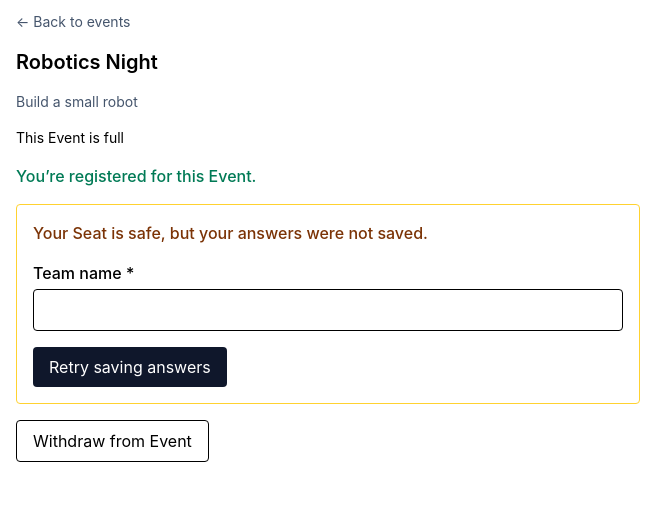
it: EventRegistrationPage › uses the custom-form Waitlist action and shows a retry transport failure
In the field labelled "Team name *": [328, 310] box [33,289,623,331], type "Robots"
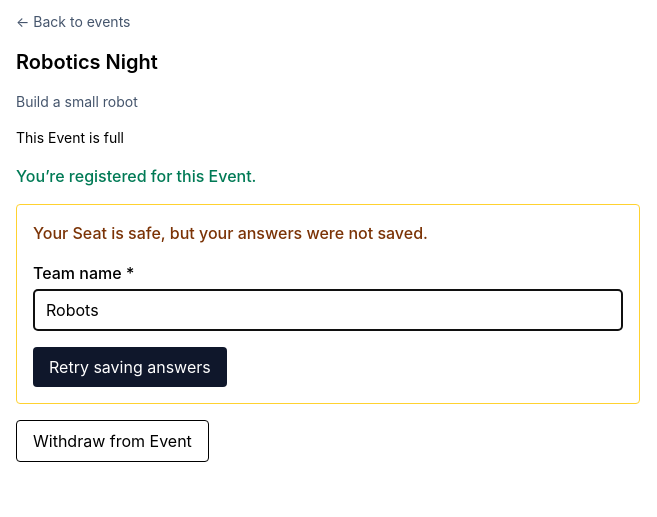
Click the button "Retry saving answers": [130, 367] box [33,347,227,387]
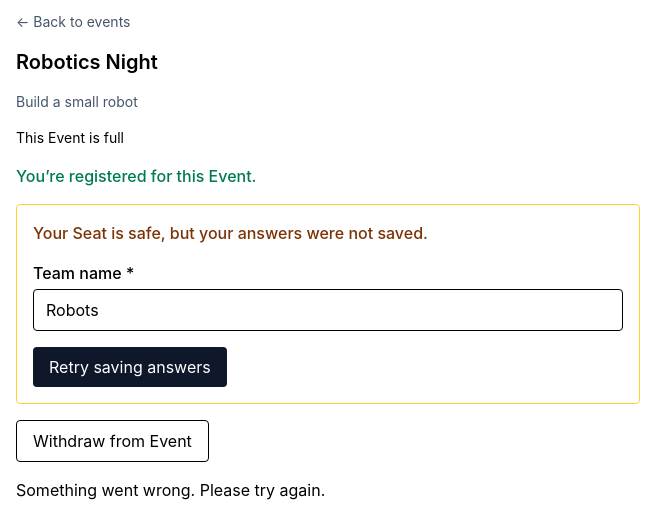
Result: the text "Something went wrong. Please try again." is shown at [16,480,325,500]
